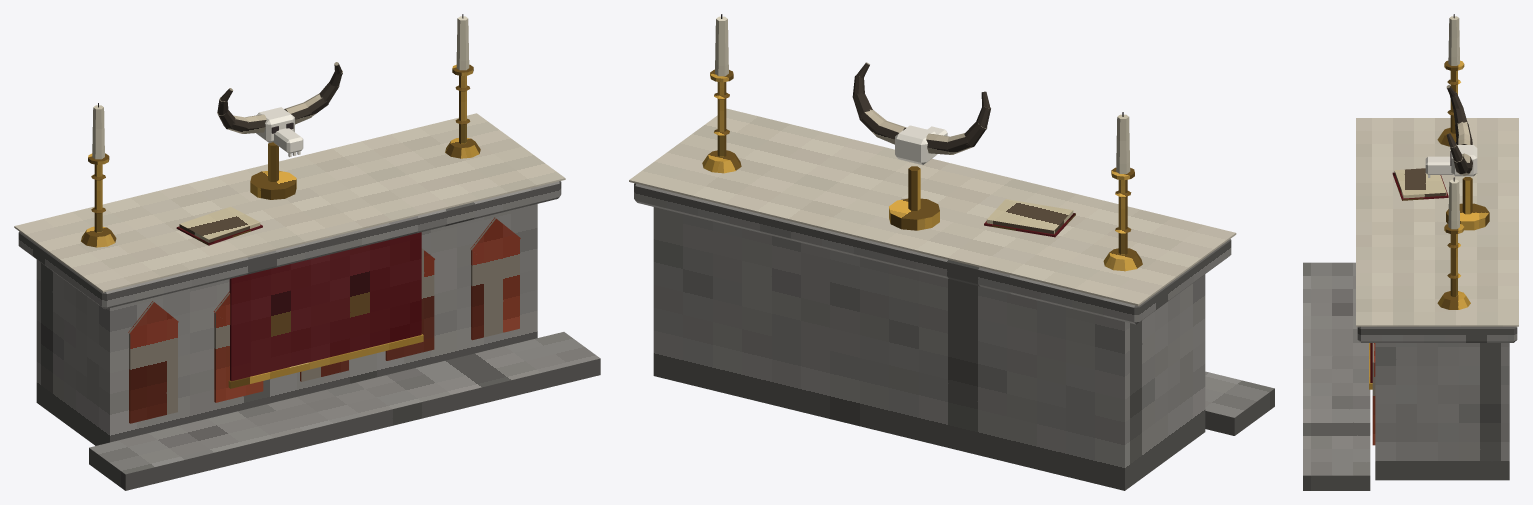
Rendered from chapel_altar_off.obj.
The picture shows the model from 3 angles, left to right: view 1: azimuth 30°, elevation 25°; view 2: azimuth 150°, elevation 25°; view 3: azimuth 270°, elevation 25°; orthographic projection. The views are drawn at different scales.
Visible parts, largest first — view 1: chapel_altar; view 2: chapel_altar; view 3: chapel_altar.
Boxes of the visible parts, bbox=[...] form: chapel_altar: bbox=[14, 14, 600, 490]; chapel_altar: bbox=[629, 14, 1274, 490]; chapel_altar: bbox=[1303, 14, 1518, 490].
Size of the model in its own units: 3 by 1.89 by 1.28.
